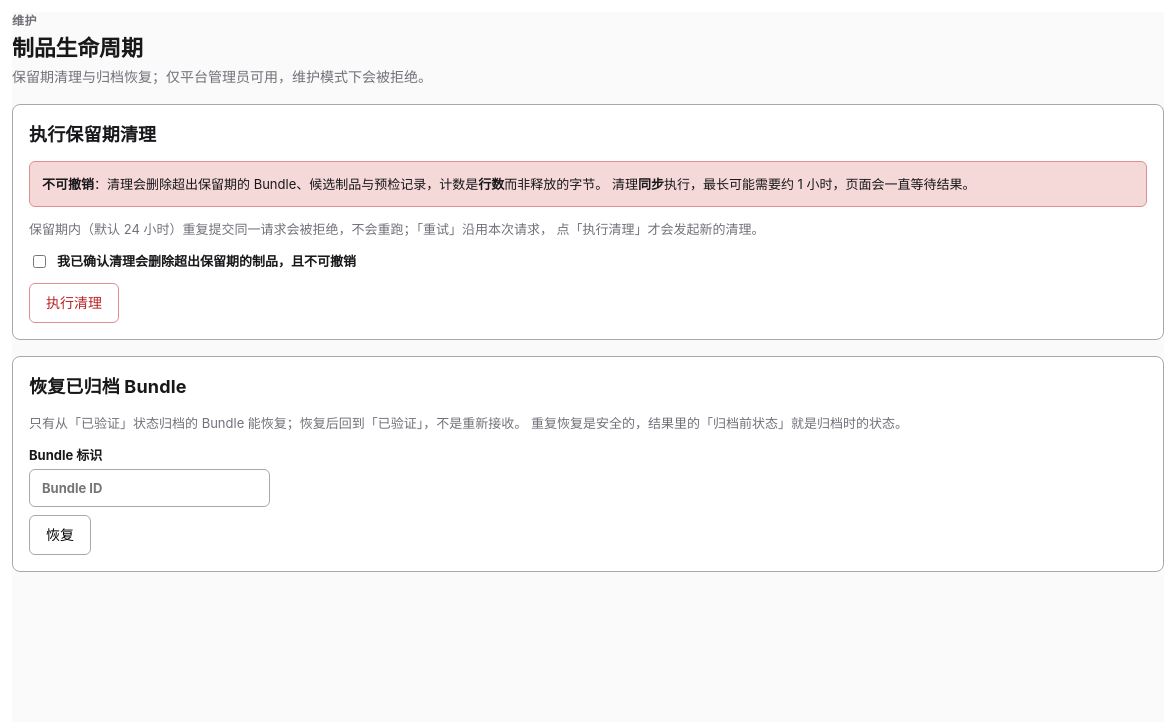
Scenario: ArtifactLifecyclePage › runs the collector with a fresh key and shows every counter
The width and height of the screenshot is (1164, 722).
Click the checkbox named "acknowledged": (40, 261) [33,254,46,268]
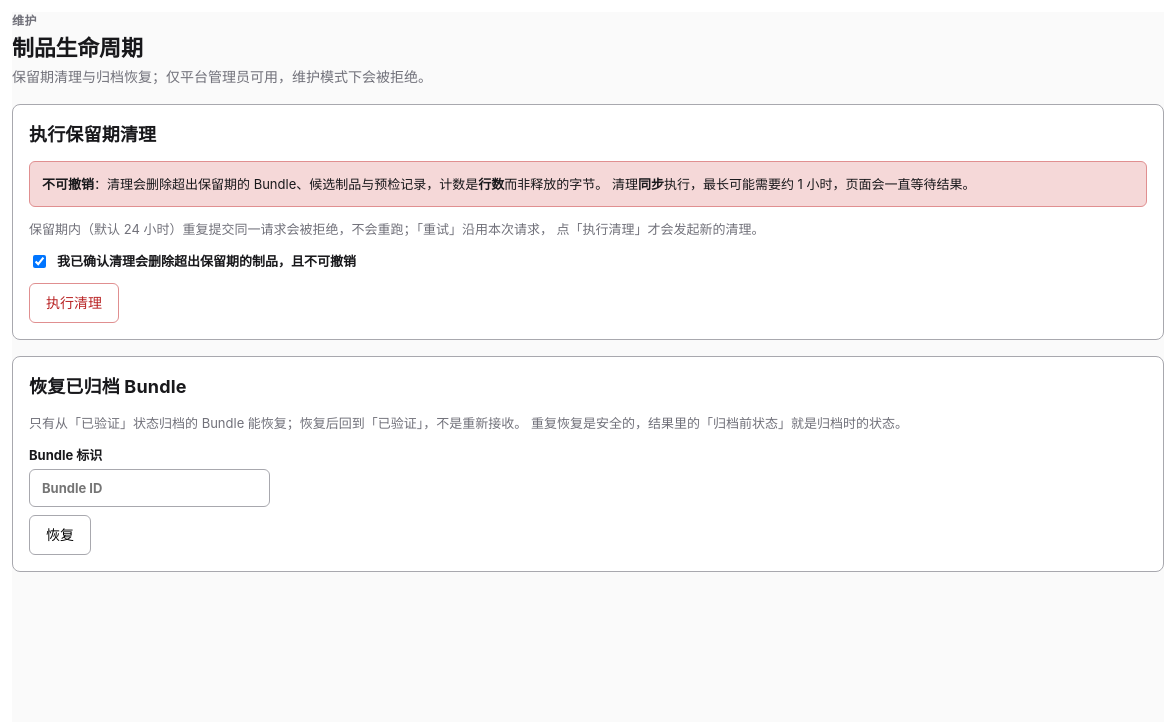
Click the button with test id "cleanup-run": (74, 303) [29,283,119,323]
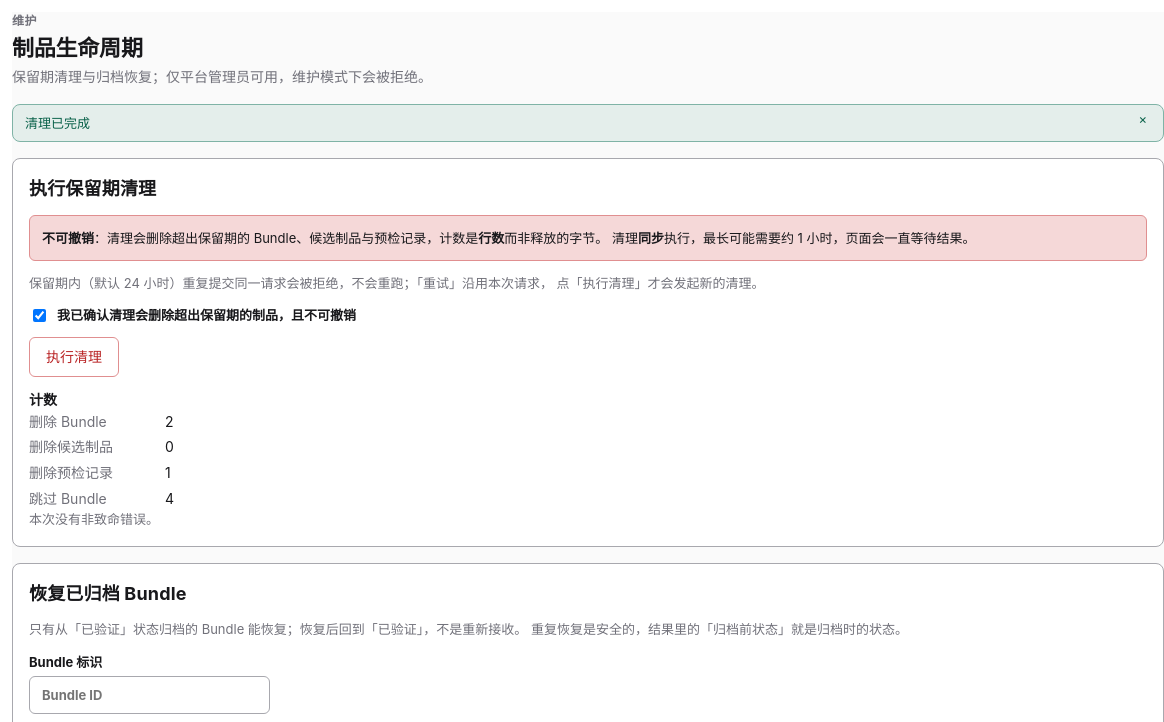
Check: the element with test id "cleanup-result" shows "删除 Bundle", box [29,413,107,430]
Check: the text with test id "cleanup-bundles" reads "2", box [165,413,174,430]
Check: the element with test id "cleanup-result" shows "跳过 Bundle", box [29,490,107,507]
